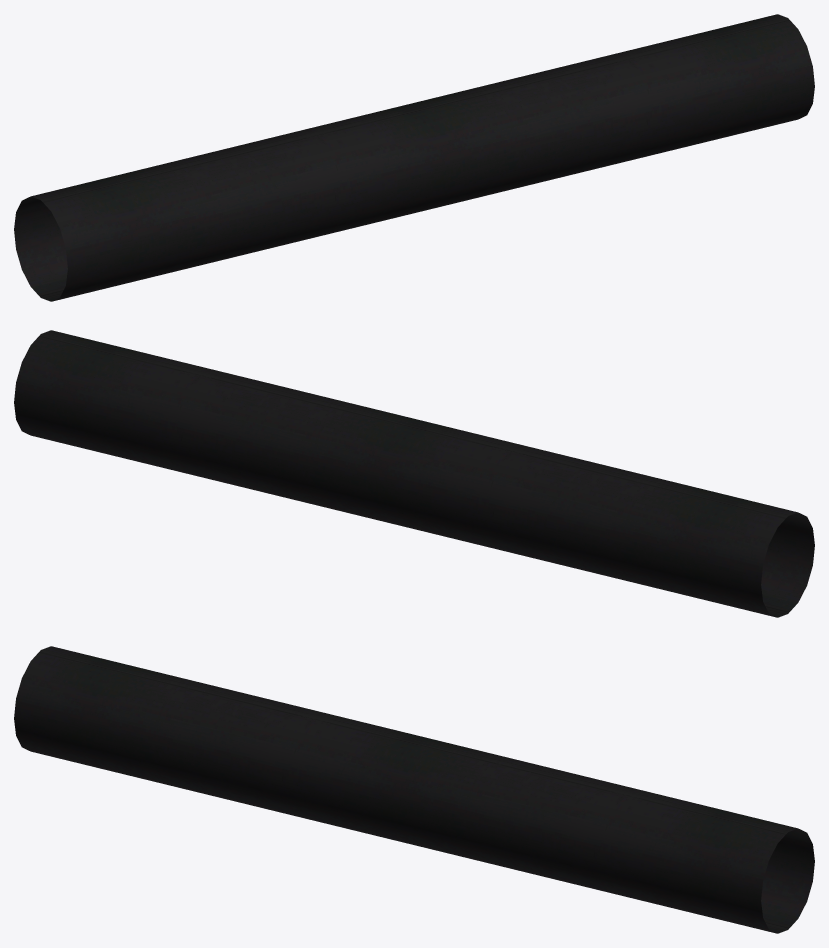
File: com_pipe_4x64_metal_clean_lod0.glb
The picture shows the model from 3 angles, top to bottom: view 1: azimuth 30°, elevation 25°; view 2: azimuth 150°, elevation 25°; view 3: azimuth 330°, elevation 25°; orthographic projection.
Parts seen in each view (by area): view 1: surf0; view 2: surf0; view 3: surf0.
Boxes of the visible parts, x1,y1,x2,y2 form: surf0: [14, 14, 814, 301]; surf0: [14, 330, 814, 617]; surf0: [14, 646, 814, 933].
Size of the model in its own units: 64 by 8 by 8.
